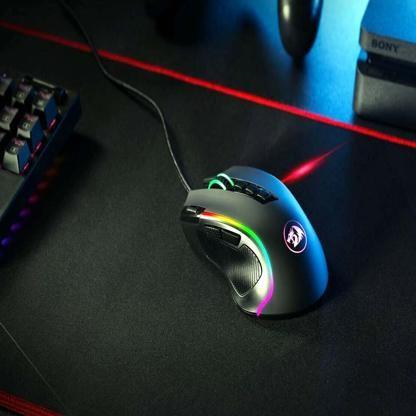not trash: (182, 157, 336, 326), (0, 41, 84, 269)
